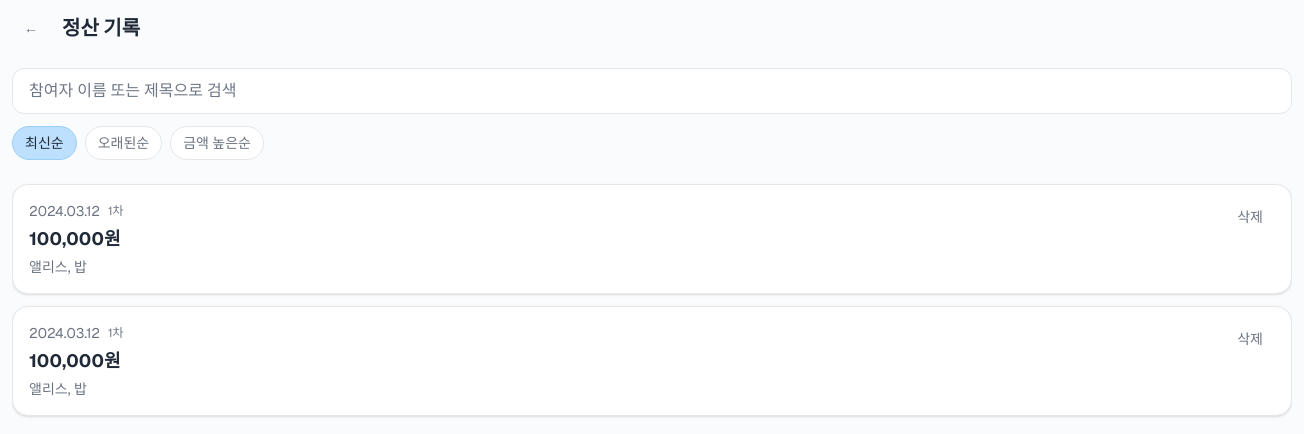
Test: HistoryPage - 검색 › 제목으로 검색 필터링
Type "회식" into the field named "정산 기록 검색" at [652, 91], box [12,68,1292,114]
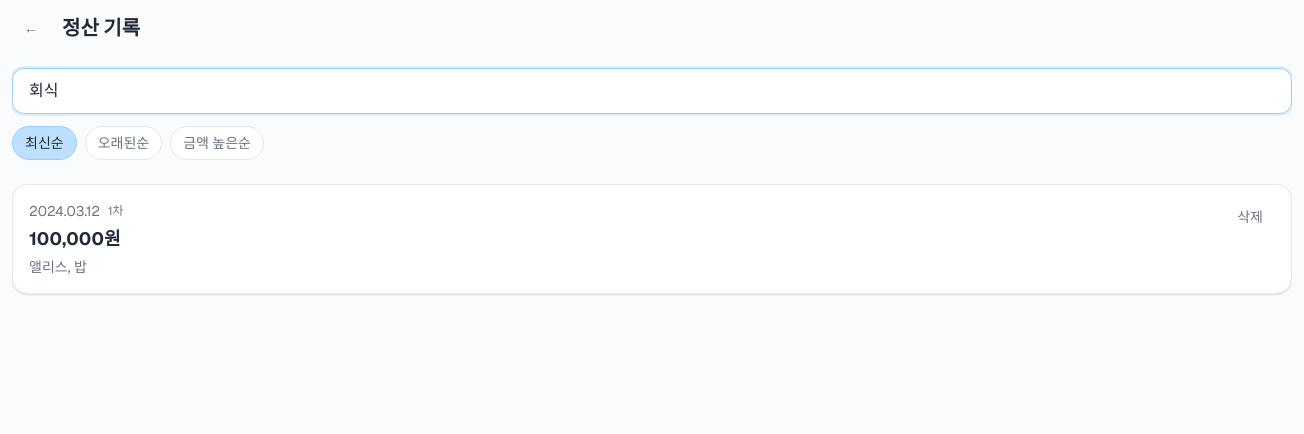
Result: the number of buttons named "정산 기록" is 1 at [12,184,1292,294]
